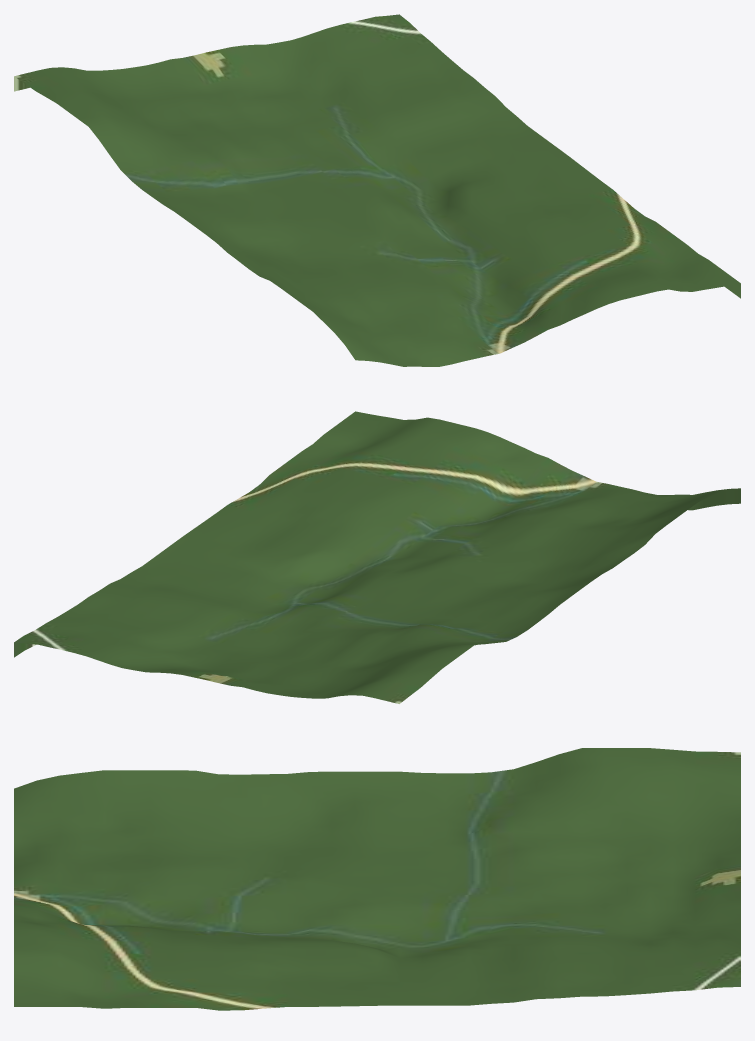
The picture shows the model from 3 angles, top to bottom: view 1: azimuth 30°, elevation 25°; view 2: azimuth 150°, elevation 25°; view 3: azimuth 270°, elevation 25°; orthographic projection. The views are drawn at different scales.
Size of the model in its own units: 797 by 162 by 1222.
1 material, 1 textured.
